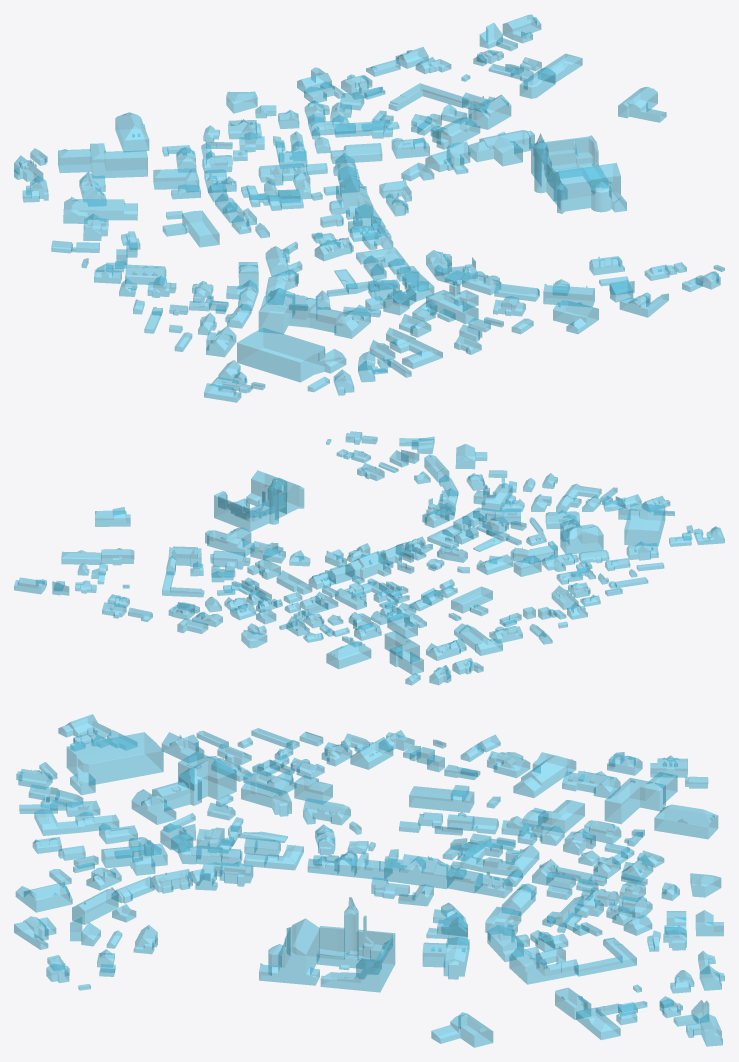
File: haapsalu_lod2.glb
The picture shows the model from 3 angles, top to bottom: view 1: azimuth 30°, elevation 25°; view 2: azimuth 150°, elevation 25°; view 3: azimuth 270°, elevation 25°; orthographic projection. The views are drawn at different scales.
Visible parts, largest first — view 1: HaapsaluLoD2; view 2: HaapsaluLoD2; view 3: HaapsaluLoD2.
Boxes of the visible parts, x1=… form: HaapsaluLoD2: x1=14, y1=14, x2=724, y2=402; HaapsaluLoD2: x1=14, y1=431, x2=724, y2=685; HaapsaluLoD2: x1=14, y1=714, x2=724, y2=1047.
Bounding box in the file's own units: 481 × 46.08 × 435.
